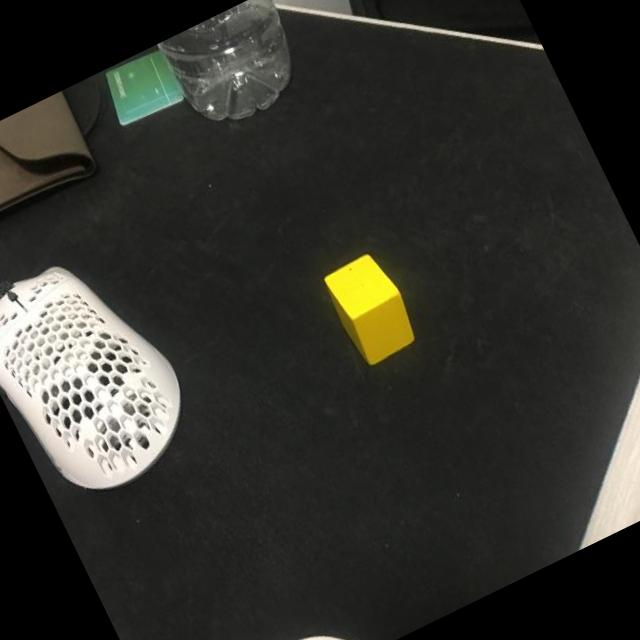yellow: (320, 248, 424, 370)
